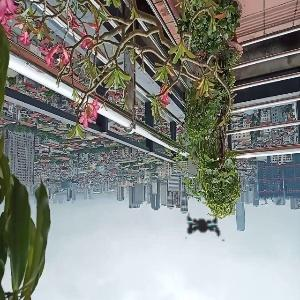drone: (157, 183, 252, 278)
